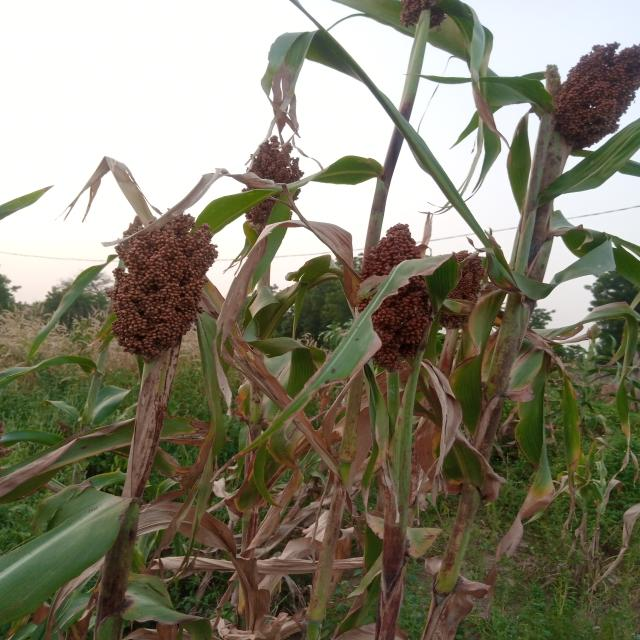RipeSorghum: (87, 192, 220, 363)
